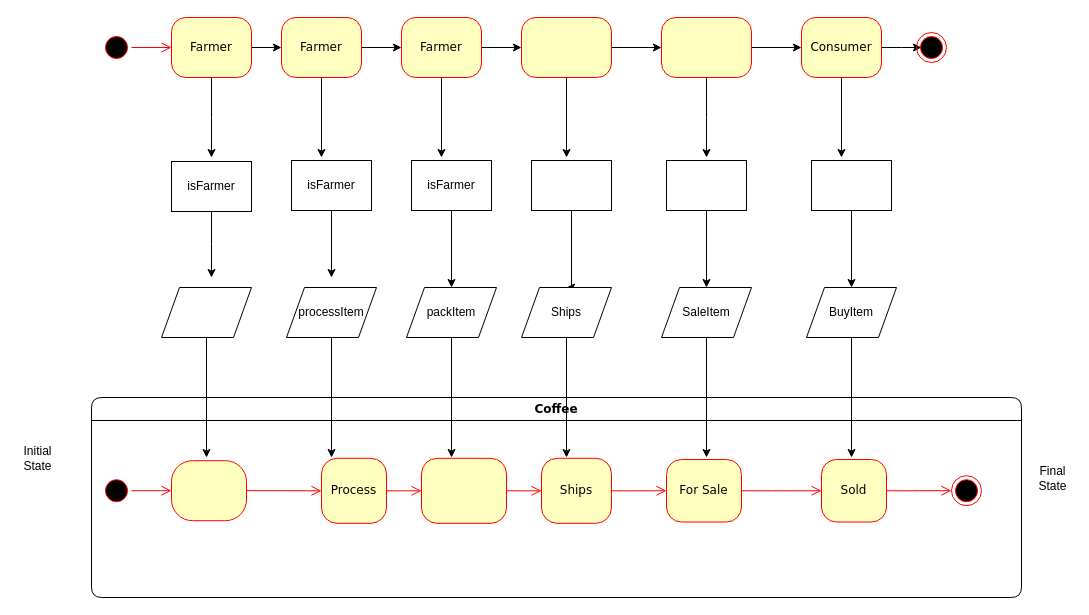
Image size: 1089x615. Some labels were removed from this diagram. Each missing label, with the centre of its shape:
Distributor: (x=566, y=47)
Harvest: (x=208, y=490)
harvestItem: (x=206, y=312)
isConsumer: (x=851, y=185)
isDistributor: (x=571, y=185)
isRetailer: (x=706, y=185)
Packing: (x=463, y=490)
Retailer: (x=706, y=47)
